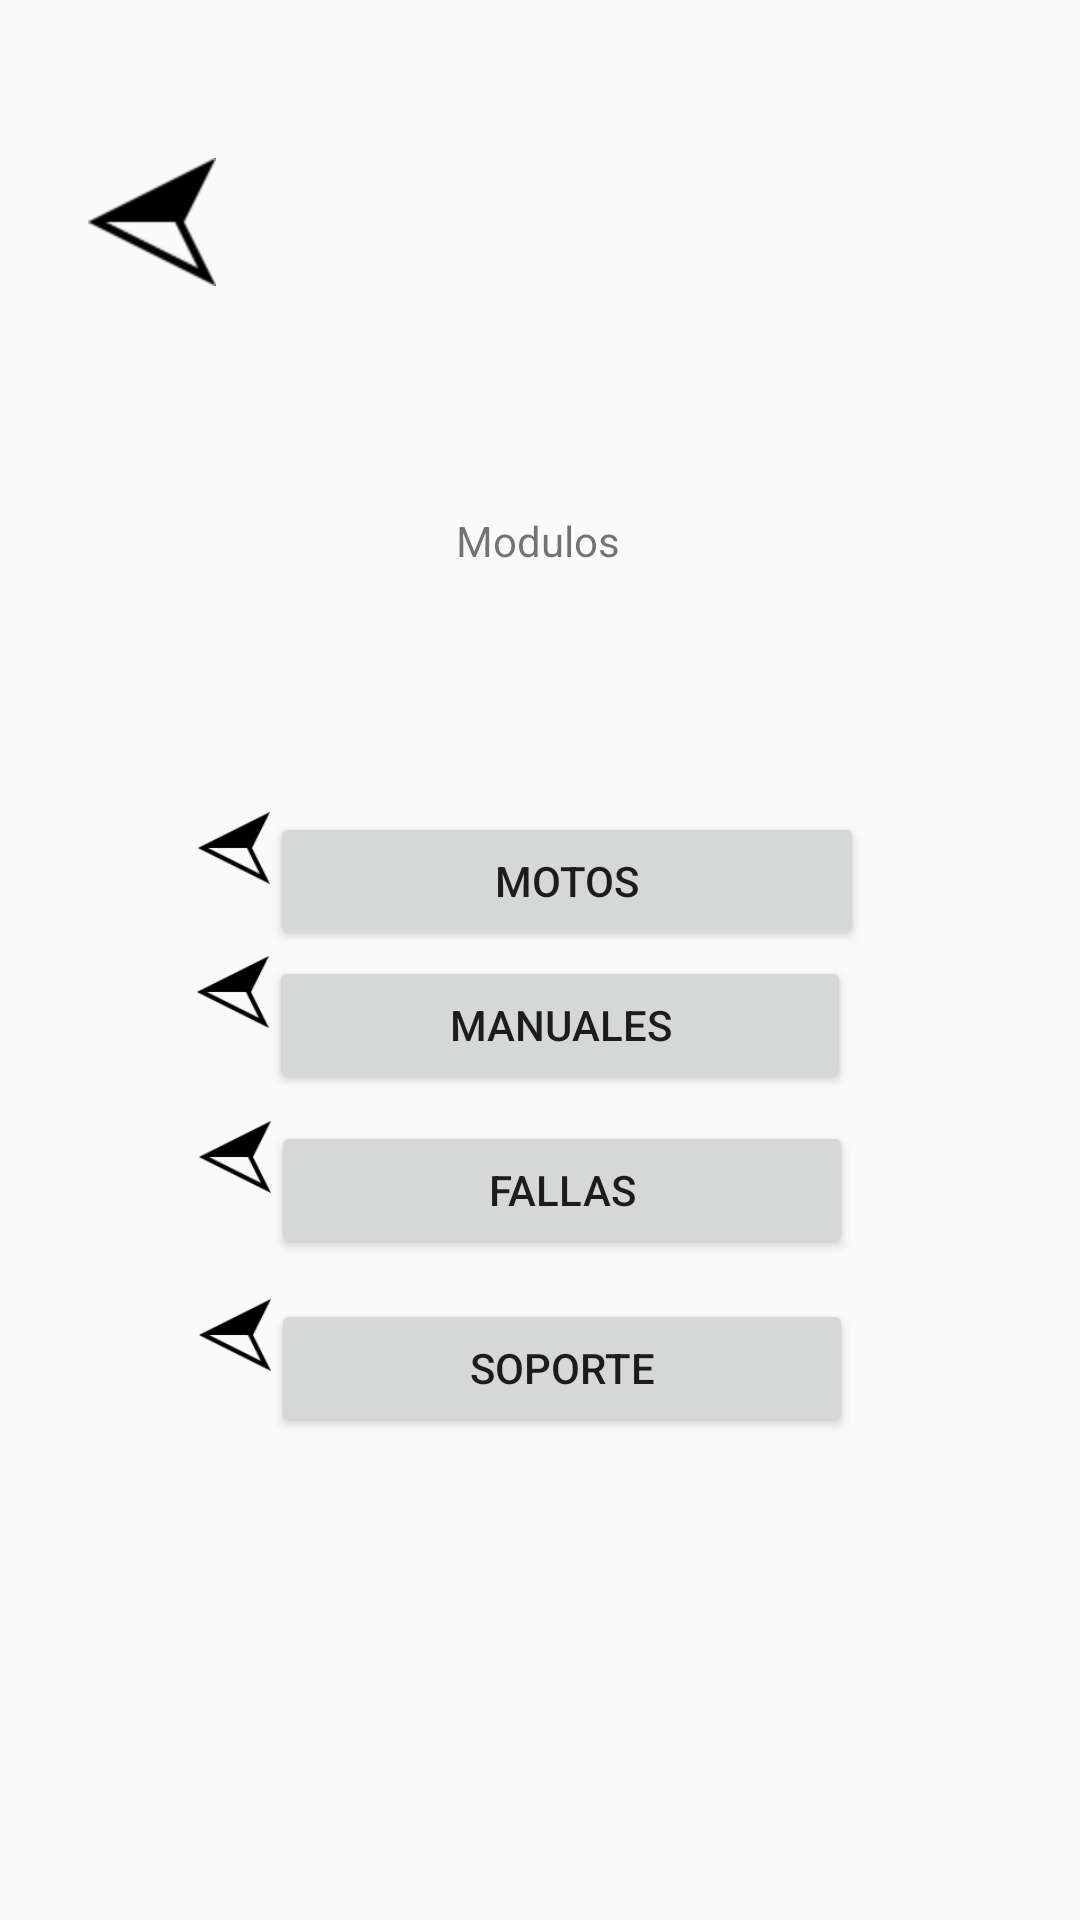

Icon click points for this 1080×1920 phone screenshot, format [x,y]:
regresaricon: [152,222], [234,848], [233,992], [235,1157], [235,1335]
